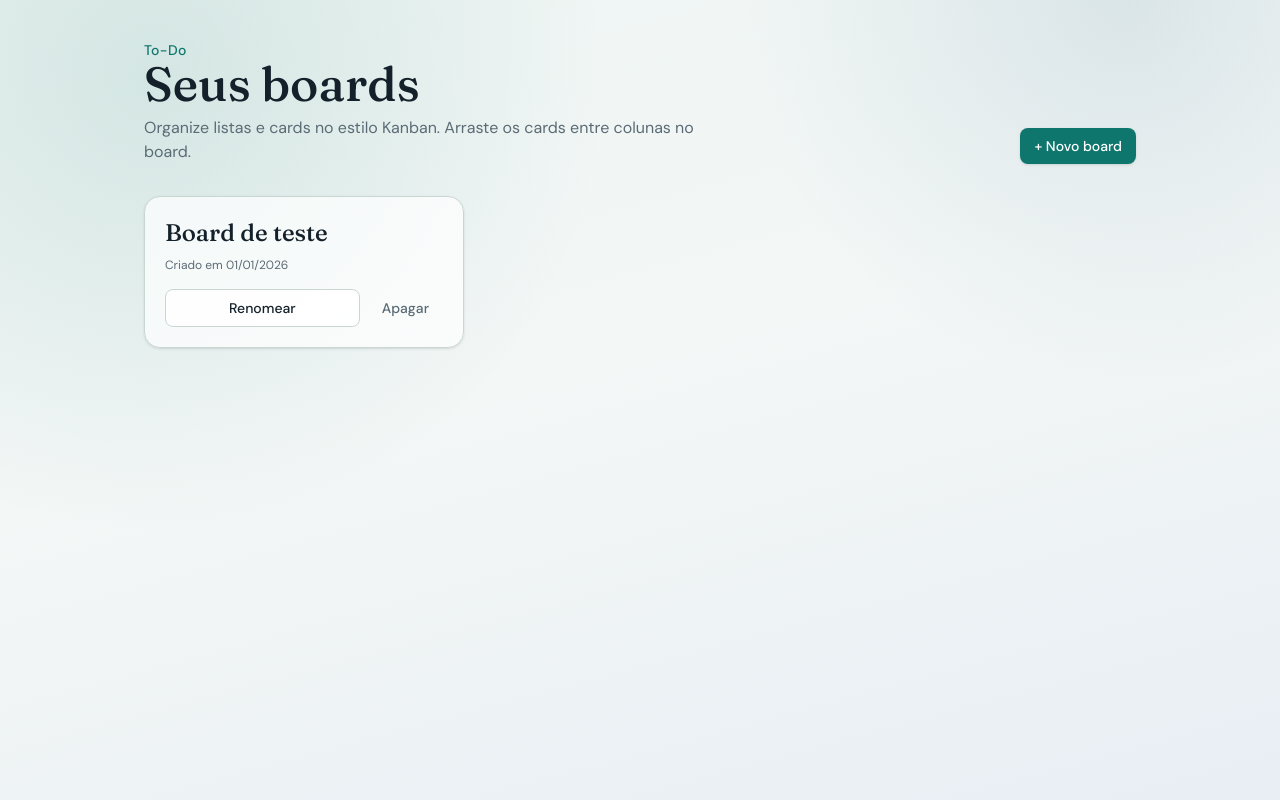
BoardsPage › creates a board
This screenshot has width=1280, height=800.
Check: the heading "Board de teste" is shown, box [165,218,328,247]
Click the button "+ Novo board". click: (1078, 146)
box: [1020,128,1136,164]
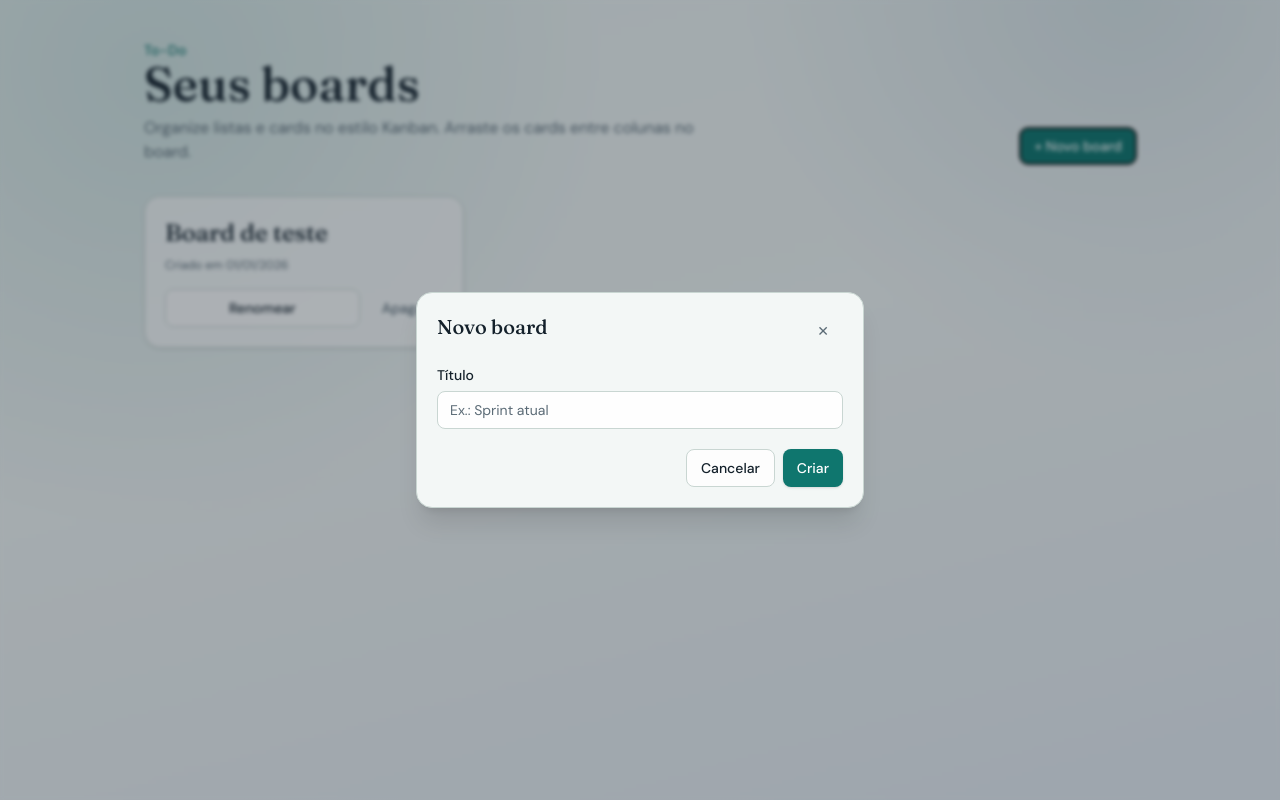
Type "Board criado" into the field labelled "Título". click: (640, 410)
box: [437,391,843,429]
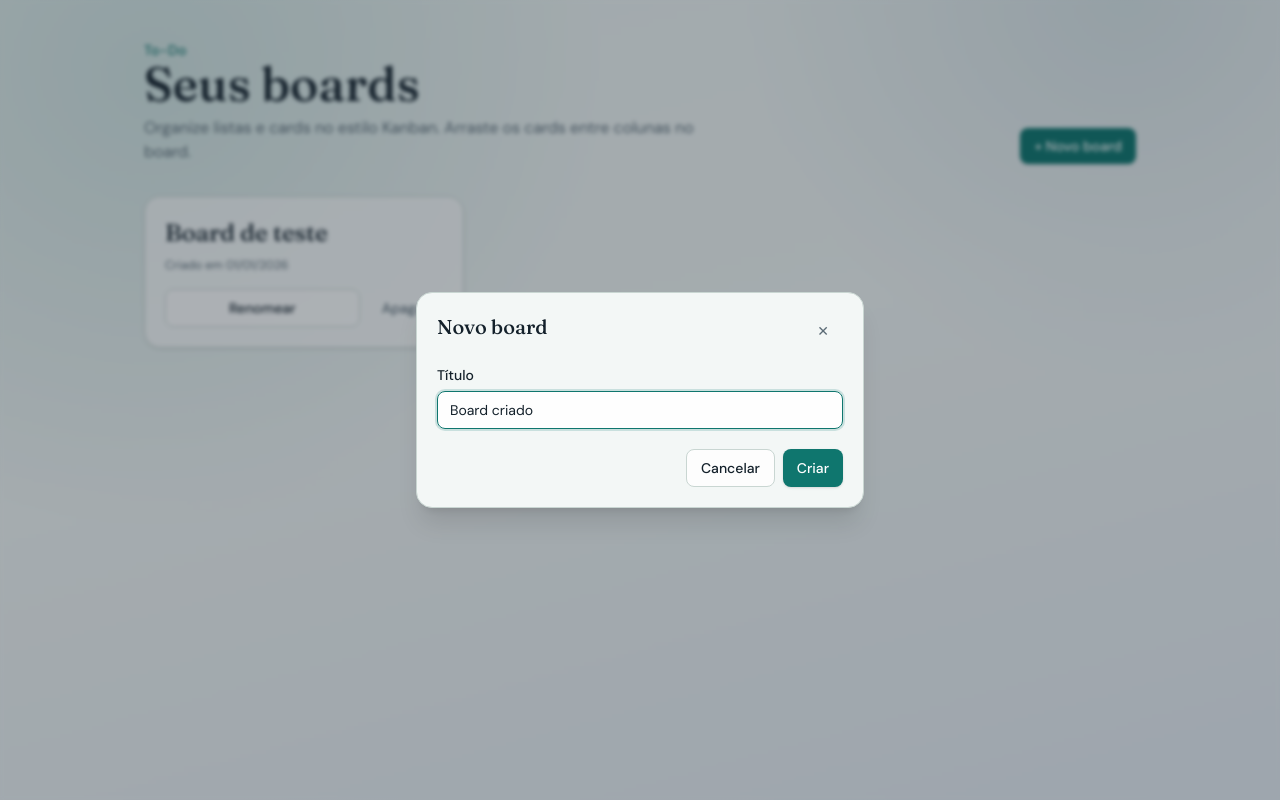
Click the button "Criar". click: (813, 468)
box: [783,449,843,487]
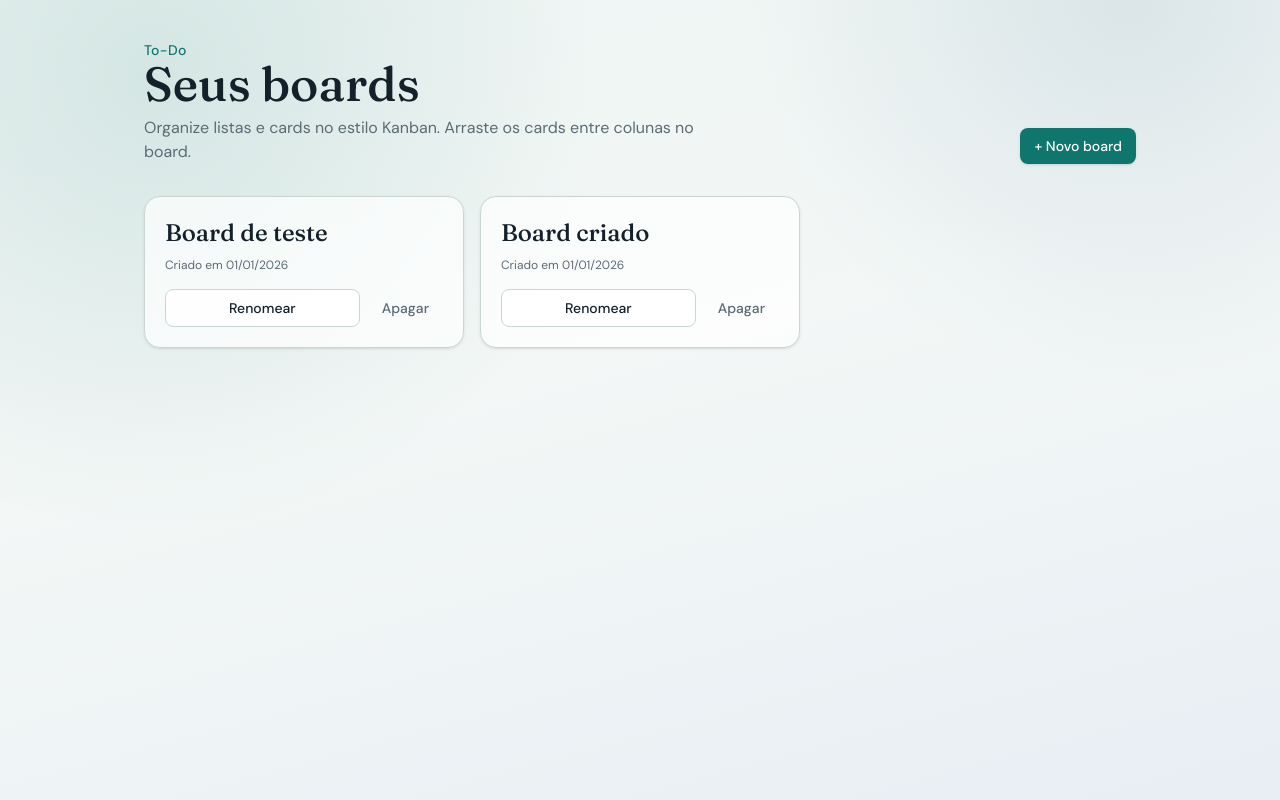
Check: the heading "Board criado" is shown, box [501,218,649,247]
